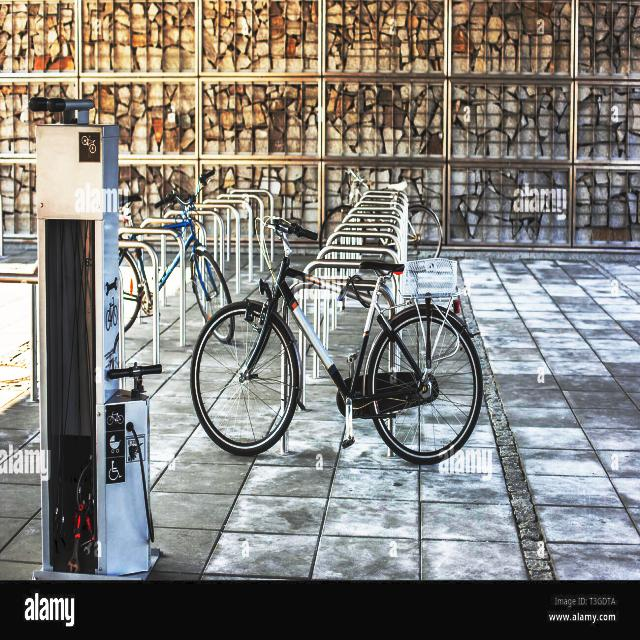bike: (190, 216, 482, 463), (116, 168, 235, 344), (318, 170, 444, 272)
